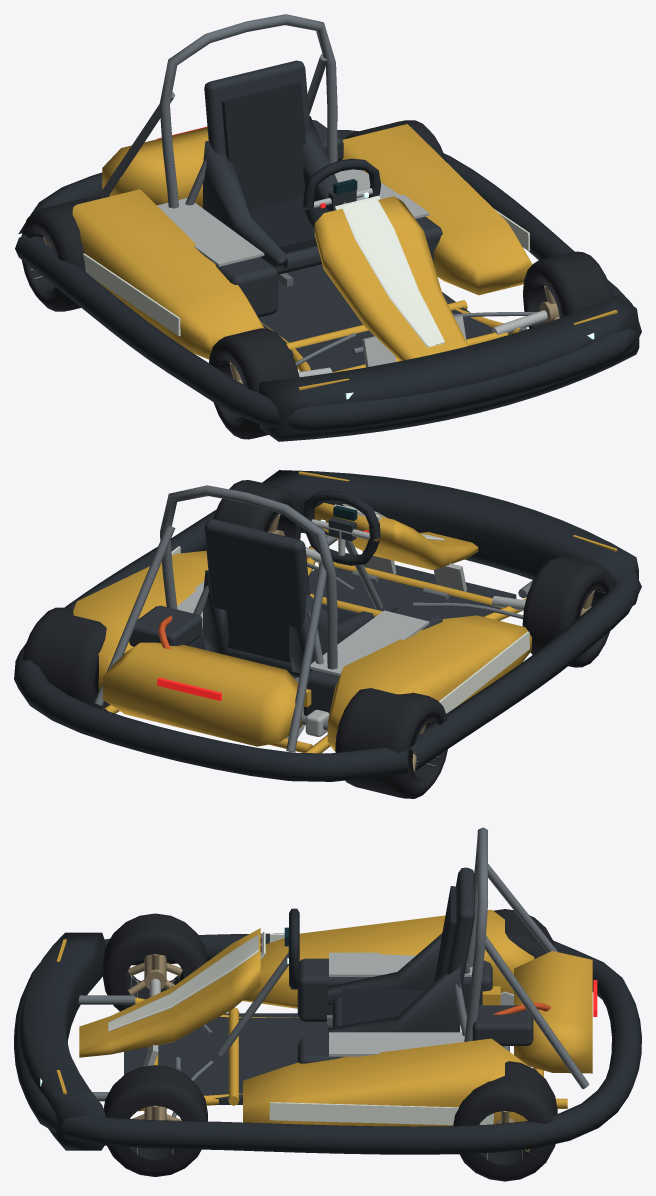
Rendered from aegis-lod.glb.
3 renders of one model, top to bottom at view 1: azimuth 30°, elevation 25°; view 2: azimuth 150°, elevation 25°; view 3: azimuth 270°, elevation 25°, orthographic.
Parts seen in each view (by area): view 1: paint, Moulded bumper polymer (×3), Satin composite, Slick vulcanised rubber (×4), Seat fabric, Steel fasteners, Livery ivory, Brushed alloy; view 2: Moulded bumper polymer (×3), paint, Satin composite (×2), Slick vulcanised rubber (×4), Steel fasteners, Brushed alloy, Livery ivory, brake_light; view 3: paint, Moulded bumper polymer (×3), Satin composite, Slick vulcanised rubber (×4), Steel fasteners (×2), Livery ivory, Brushed alloy, Seat fabric, Magnesium wheel centres.
Part boxes in pixels (<box>): paint: <box>72,124,532,372</box>; Moulded bumper polymer (×3): <box>15,130,641,441</box>; Satin composite: <box>160,60,492,371</box>; Slick vulcanised rubber (×4): <box>21,120,613,439</box>; Seat fabric: <box>221,82,330,253</box>; Steel fasteners: <box>98,14,536,365</box>; Livery ivory: <box>83,199,530,347</box>; Brushed alloy: <box>157,169,547,377</box>; Moulded bumper polymer (×3): <box>14,470,641,781</box>; paint: <box>73,502,531,753</box>; Satin composite (×2): <box>129,517,516,715</box>; Slick vulcanised rubber (×4): <box>22,480,614,798</box>; Steel fasteners: <box>94,485,523,752</box>; Brushed alloy: <box>177,547,525,738</box>; Livery ivory: <box>171,504,529,713</box>; brake_light: <box>157,677,221,700</box>; paint: <box>79,909,592,1126</box>; Moulded bumper polymer (×3): <box>14,908,641,1154</box>; Satin composite: <box>124,867,533,1104</box>; Slick vulcanised rubber (×4): <box>102,909,557,1181</box>; Steel fasteners (×2): <box>78,827,589,1120</box>; Livery ivory: <box>108,933,493,1125</box>; Brushed alloy: <box>143,952,513,1066</box>; Seat fabric: <box>341,886,456,1026</box>; Magnesium wheel centres: <box>128,954,182,995</box>.
Size of the model in its own units: 2.17 by 1.22 by 2.8.
